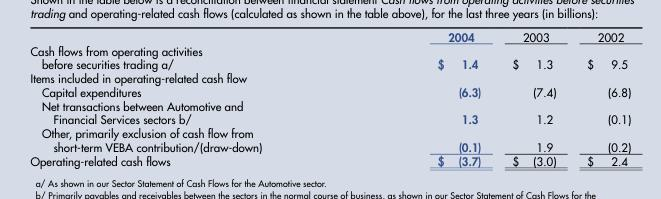table: (29, 29, 630, 167)
table column: (29, 29, 349, 167), (349, 29, 495, 167), (495, 29, 570, 167), (570, 29, 630, 167)
table column header: (29, 29, 630, 43)
table projected row header: (29, 71, 630, 84)
table row: (29, 43, 630, 71), (29, 98, 630, 126), (29, 126, 630, 153), (29, 29, 630, 43), (29, 84, 630, 98), (29, 153, 630, 167), (29, 71, 630, 84)
